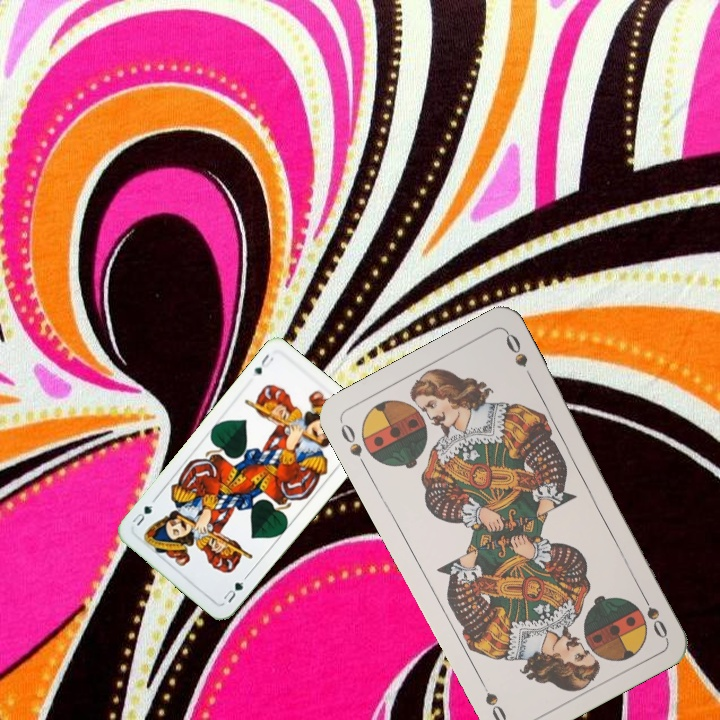GU: (219, 577, 246, 606), (249, 350, 276, 379)
SO: (635, 586, 670, 641), (336, 418, 370, 472)
